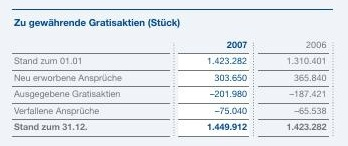table: (0, 0, 348, 146)
